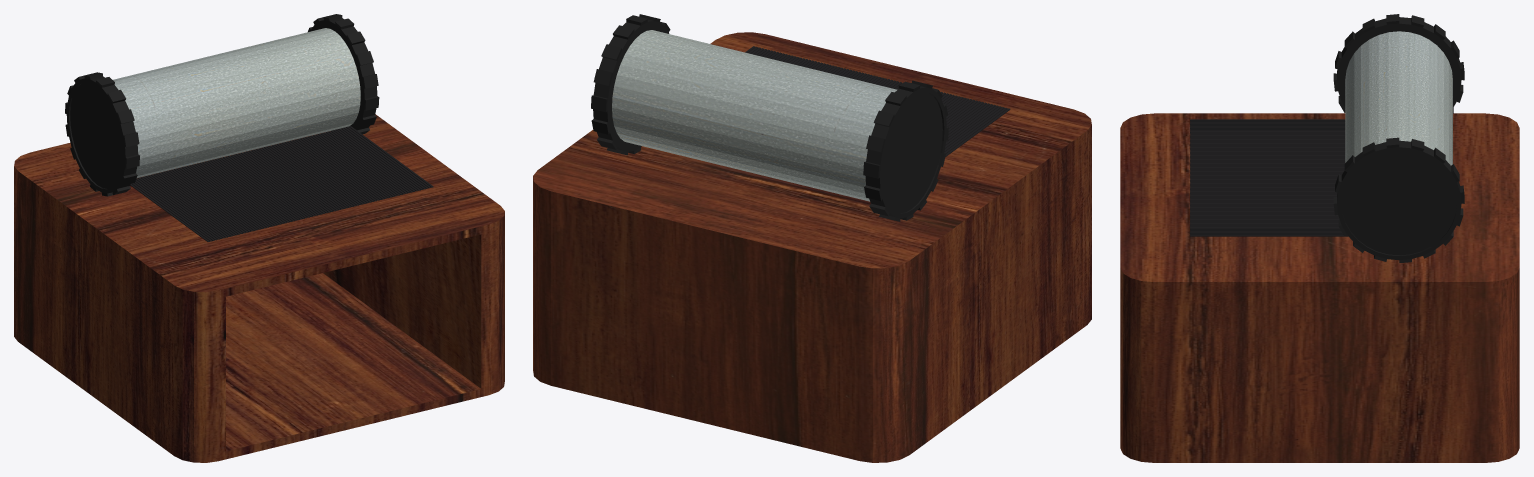
The model's file is musicbox2.gltf.
3 renders of one model, left to right at view 1: azimuth 30°, elevation 25°; view 2: azimuth 150°, elevation 25°; view 3: azimuth 270°, elevation 25°, orthographic. The views are drawn at different scales.
Parts seen in each view (by area): view 1: Cube, Cylinder.001, Cube.001; view 2: Cube, Cylinder.001, Cube.001; view 3: Cube, Cylinder.001, Cube.001.
Boxes of the visible parts, x1=… form: Cube: x1=14, y1=114, x2=504, y2=462; Cylinder.001: x1=65, y1=14, x2=379, y2=196; Cube.001: x1=130, y1=126, x2=433, y2=241; Cube: x1=533, y1=32, x2=1091, y2=462; Cylinder.001: x1=591, y1=14, x2=948, y2=221; Cube.001: x1=745, y1=46, x2=1010, y2=156; Cube: x1=1120, y1=113, x2=1519, y2=462; Cylinder.001: x1=1333, y1=14, x2=1464, y2=262; Cube.001: x1=1190, y1=119, x2=1348, y2=236.
Bounding box in the file's own units: 2 × 1.66 × 2.
4 materials, 2 textured.
